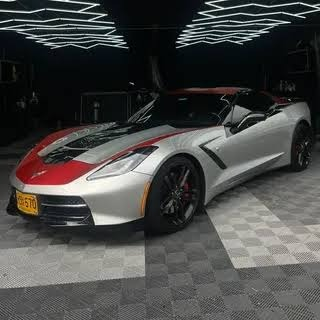car: (3, 89, 320, 241), (5, 93, 320, 239)
